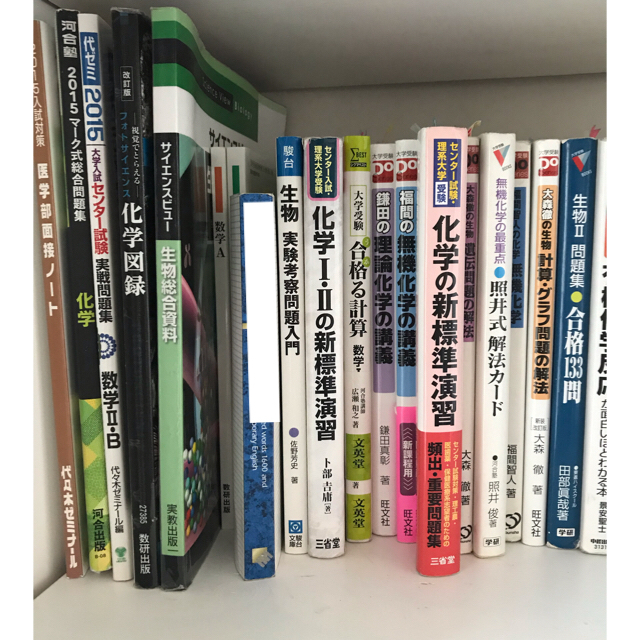book: (143, 1, 187, 595), (415, 123, 467, 580), (299, 132, 346, 557), (521, 134, 557, 549), (339, 132, 375, 545), (274, 135, 307, 557), (365, 140, 400, 537), (480, 126, 512, 557), (390, 132, 420, 543)
